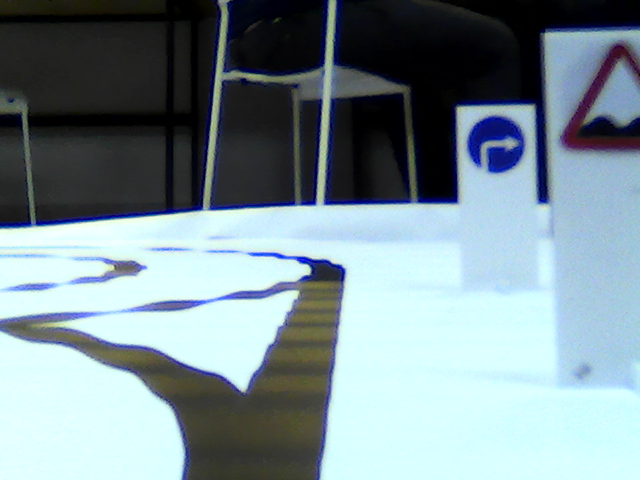Nerov: (555, 41, 640, 153)
Right: (471, 114, 525, 175)
